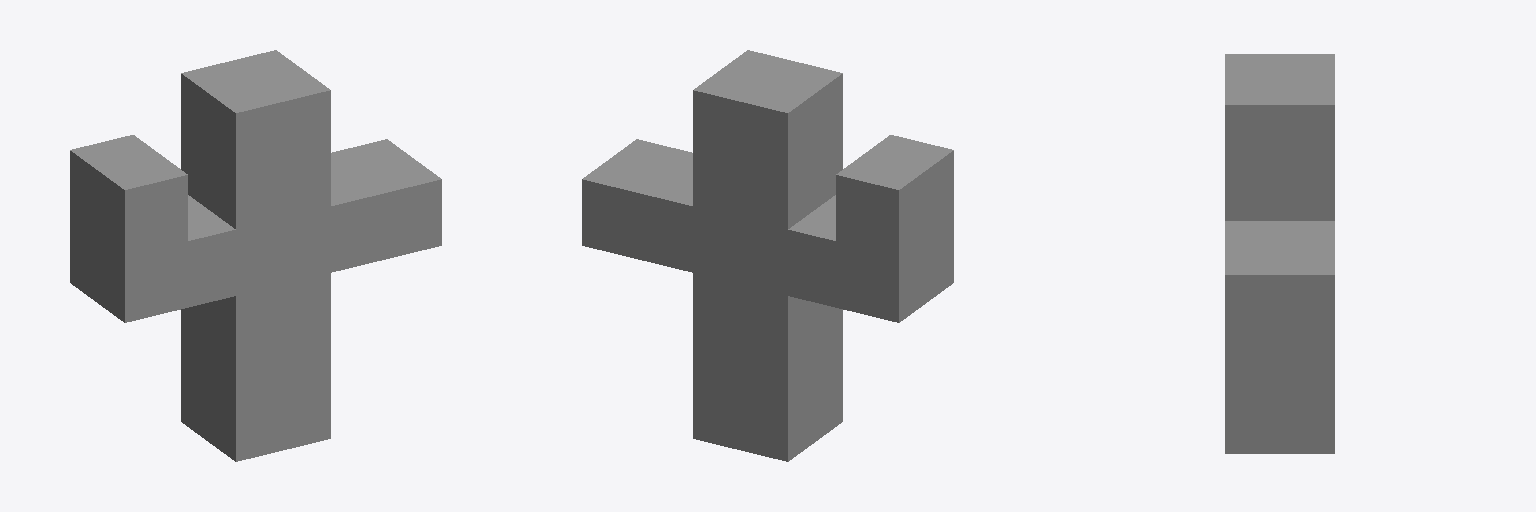
The model's file is cactus2.obj.
3 renders of one model, left to right at view 1: azimuth 30°, elevation 25°; view 2: azimuth 150°, elevation 25°; view 3: azimuth 270°, elevation 25°, orthographic.
Parts seen in each view (by area): view 1: Cube; view 2: Cube; view 3: Cube.
Part boxes in pixels (left/top/right/bottom): Cube: left=70, top=50, right=441, bottom=461; Cube: left=582, top=50, right=953, bottom=461; Cube: left=1225, top=54, right=1334, bottom=453.
Size of the model in its own units: 2 by 2.1 by 0.6.